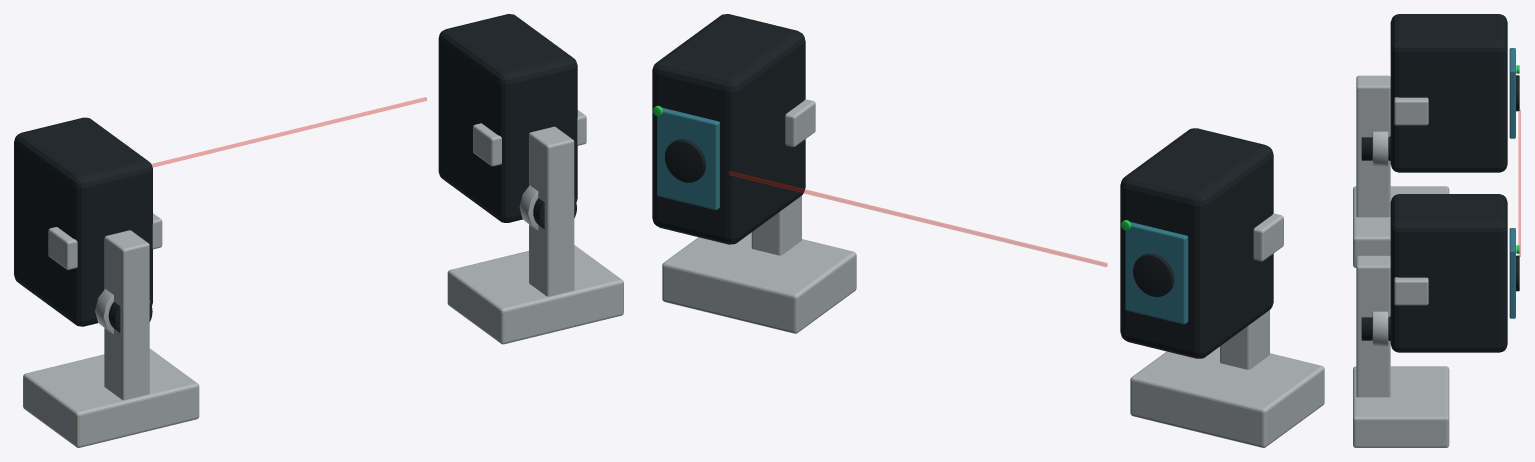
File: through_beam_photoelectric_pair.glb
3 renders of one model, left to right at view 1: azimuth 30°, elevation 25°; view 2: azimuth 150°, elevation 25°; view 3: azimuth 270°, elevation 25°, orthographic. The views are drawn at different scales.
Visible parts, largest first — view 1: HEAD_RECEIVER, HEAD_EMITTER, BRACKET_base_EMITTER, BRACKET_base_RECEIVER, BRACKET_upright_RECEIVER, BRACKET_upright_EMITTER, BRACKET_arm_EMITTER, BRACKET_arm_RECEIVER, THROUGH_BEAM; view 2: HEAD_EMITTER, HEAD_RECEIVER, BRACKET_base_EMITTER, BRACKET_base_RECEIVER, FACE_EMITTER, FACE_RECEIVER, BRACKET_upright_RECEIVER, BRACKET_upright_EMITTER, THROUGH_BEAM, OPTIC_EMITTER, OPTIC_RECEIVER, BRACKET_arm_EMITTER (+1 smaller); view 3: HEAD_RECEIVER, HEAD_EMITTER, BRACKET_base_RECEIVER, BRACKET_upright_EMITTER, BRACKET_upright_RECEIVER, BRACKET_base_EMITTER, BRACKET_arm_RECEIVER, BRACKET_arm_EMITTER, FACE_EMITTER, FACE_RECEIVER, M12_EMITTER_nut, M12_RECEIVER_nut (+3 smaller).
Part boxes in pixels (x1,y1,x2,y2): HEAD_RECEIVER: (438,14,577,222); HEAD_EMITTER: (14,117,152,326); BRACKET_base_EMITTER: (23,348,199,447); BRACKET_base_RECEIVER: (447,245,623,344); BRACKET_upright_RECEIVER: (529,126,574,296); BRACKET_upright_EMITTER: (104,230,149,400); BRACKET_arm_EMITTER: (48,213,162,269); BRACKET_arm_RECEIVER: (473,110,586,166); THROUGH_BEAM: (151,97,426,167); HEAD_EMITTER: (1120,128,1273,358); HEAD_RECEIVER: (652,14,805,244); BRACKET_base_EMITTER: (1130,346,1324,447); BRACKET_base_RECEIVER: (662,232,856,333); FACE_EMITTER: (1125,222,1188,324); FACE_RECEIVER: (657,107,719,209); BRACKET_upright_RECEIVER: (751,195,801,255); BRACKET_upright_EMITTER: (1220,310,1269,369); THROUGH_BEAM: (729,171,1107,266); OPTIC_EMITTER: (1133,253,1174,296); OPTIC_RECEIVER: (665,139,705,182); BRACKET_arm_EMITTER: (1253,213,1283,261); HEAD_RECEIVER: (1390,194,1507,352); HEAD_EMITTER: (1390,14,1507,172); BRACKET_base_RECEIVER: (1353,366,1449,447); BRACKET_upright_EMITTER: (1356,75,1390,217); BRACKET_upright_RECEIVER: (1356,255,1390,397); BRACKET_base_EMITTER: (1353,186,1449,267); BRACKET_arm_RECEIVER: (1394,277,1428,305); BRACKET_arm_EMITTER: (1394,97,1428,125); FACE_EMITTER: (1509,48,1515,138); FACE_RECEIVER: (1509,228,1515,318); M12_EMITTER_nut: (1372,131,1388,166); M12_RECEIVER_nut: (1372,311,1388,346).
Bounding box in the file's own units: 1.6 × 0.69 × 0.489.
